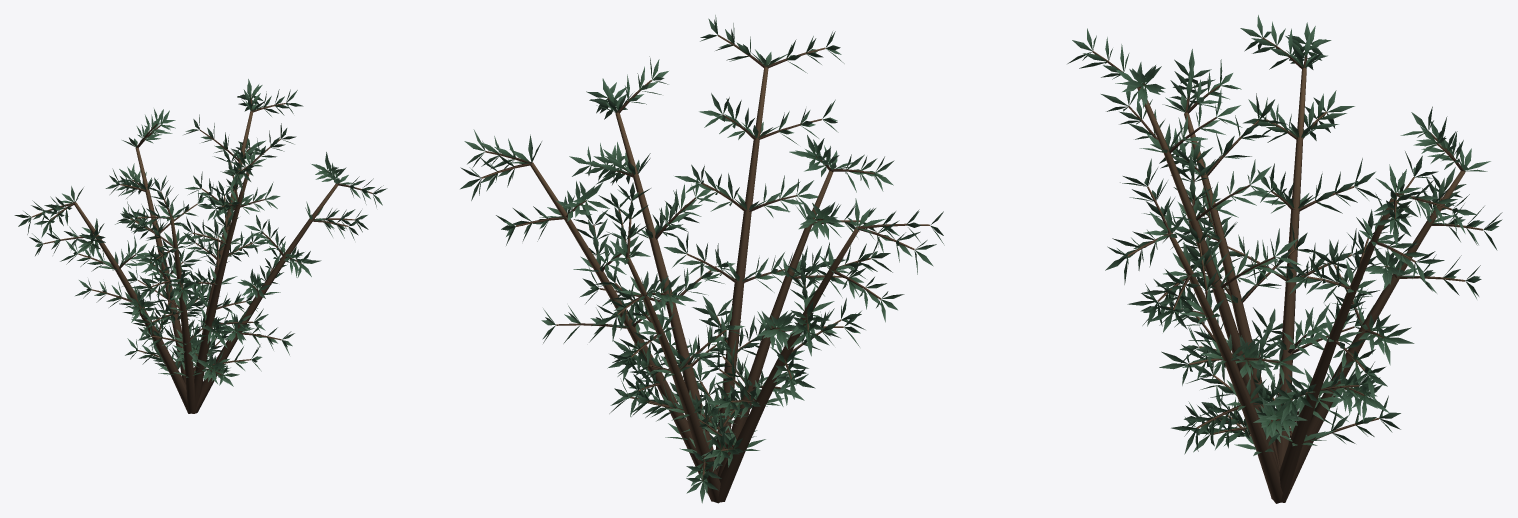
Rendered from juniper.glb.
3 views of the same model, side by side, from view 1: azimuth 30°, elevation 25°; view 2: azimuth 150°, elevation 25°; view 3: azimuth 270°, elevation 25° (orthographic). The views are drawn at different scales.
Parts seen in each view (by area): view 1: juniper; view 2: juniper; view 3: juniper.
Part boxes in pixels (x1,y1,x2,y2): juniper: (14,79,387,413); juniper: (460,15,944,503); juniper: (1067,15,1502,503).
Size of the model in its own units: 1.01 by 0.9712 by 0.8181.
Materials: 1 (1 with a texture image).
